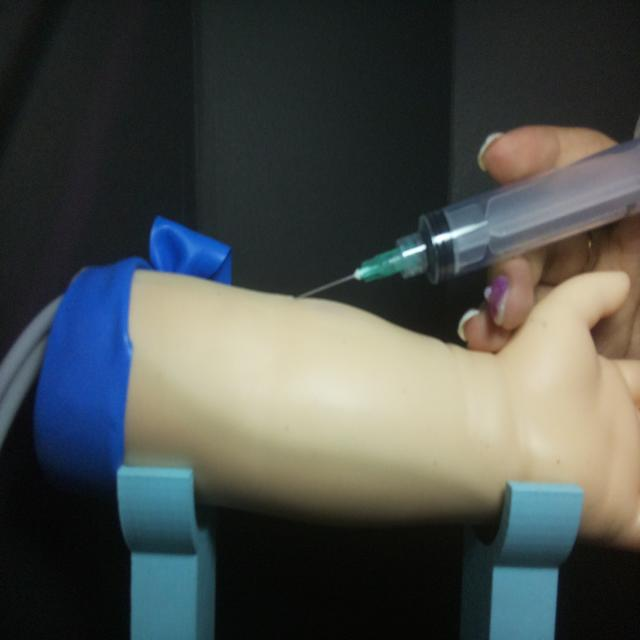15deg: (294, 118, 640, 300)
